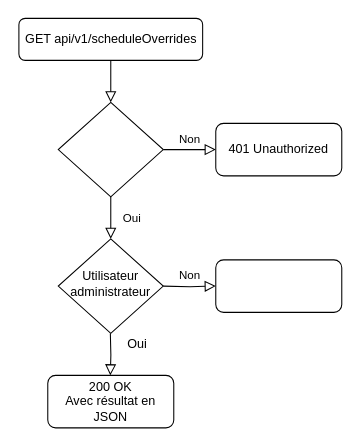
This 360x446 diagram has some shape labels left out. Each missing label, with the centre of its shape:
"403 Forbidden" goes at point (278, 285).
"Header Authorization présent" goes at point (110, 149).
